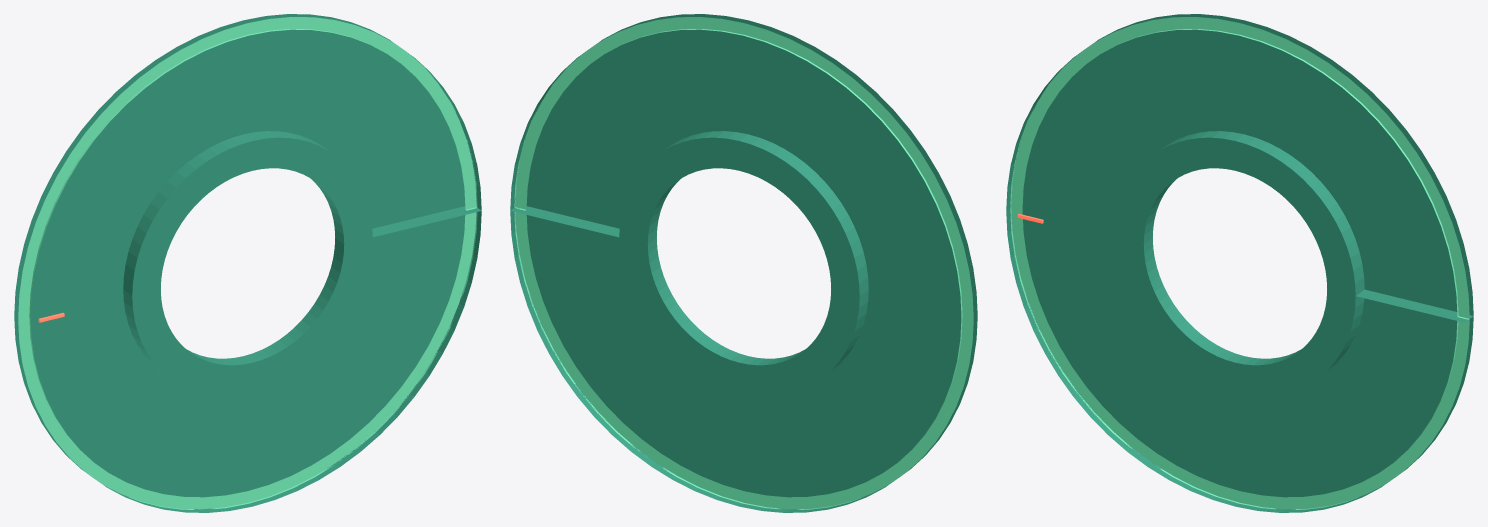
File: bio-panel-fun8-high.glb
The picture shows the model from 3 angles, left to right: view 1: azimuth 30°, elevation 25°; view 2: azimuth 150°, elevation 25°; view 3: azimuth 330°, elevation 25°; orthographic projection.
Visible parts, largest first — view 1: RENDER_PANEL_SHELL, RENDER_PANEL_FRAME; view 2: RENDER_PANEL_SHELL, RENDER_PANEL_FRAME; view 3: RENDER_PANEL_SHELL, RENDER_PANEL_FRAME.
Part boxes in pixels (x1,y1,x2,y2): RENDER_PANEL_SHELL: (14,14,481,512); RENDER_PANEL_FRAME: (18,17,477,509); RENDER_PANEL_SHELL: (510,14,977,512); RENDER_PANEL_FRAME: (514,17,973,509); RENDER_PANEL_SHELL: (1006,14,1473,512); RENDER_PANEL_FRAME: (1010,17,1469,509).
Size of what is drawn, in the model's own units: 41 by 41 by 1.81.
